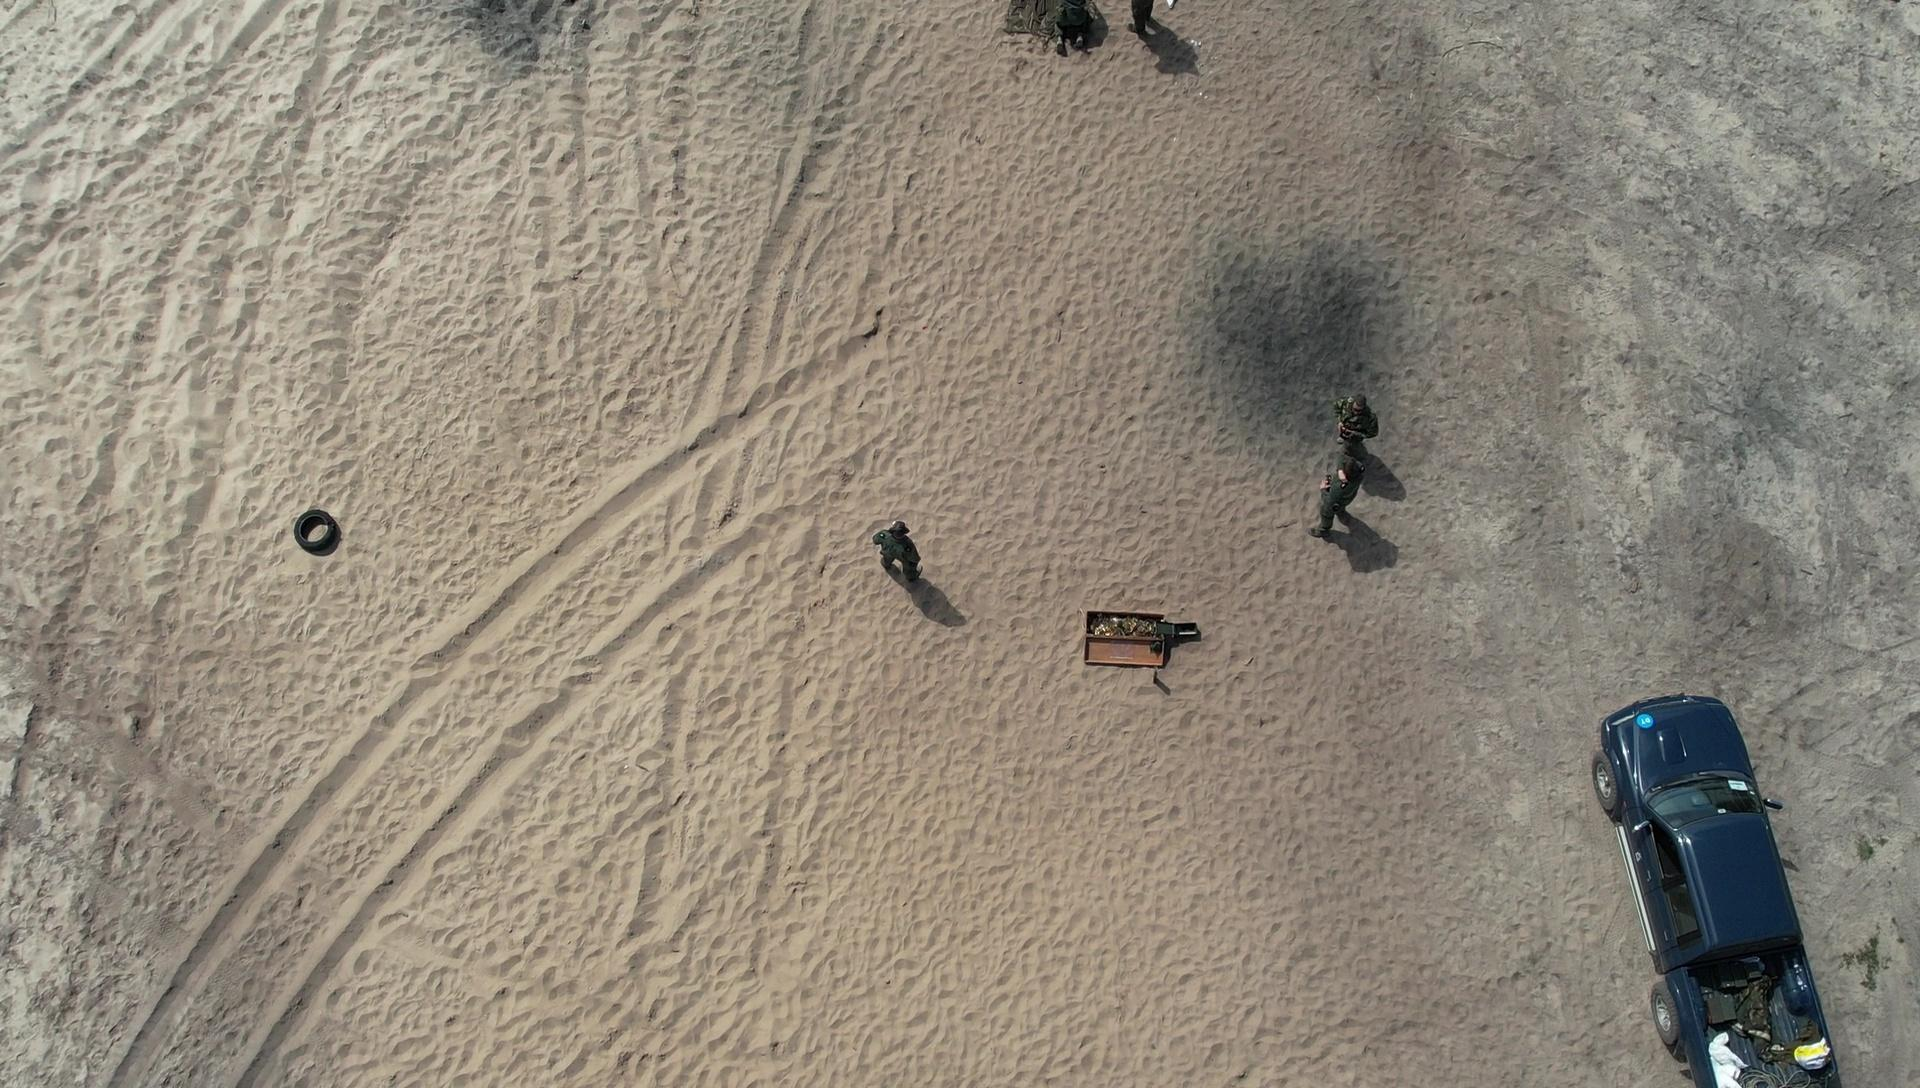Soldier: (1304, 458, 1378, 547), (1325, 386, 1394, 466), (870, 510, 942, 586)
